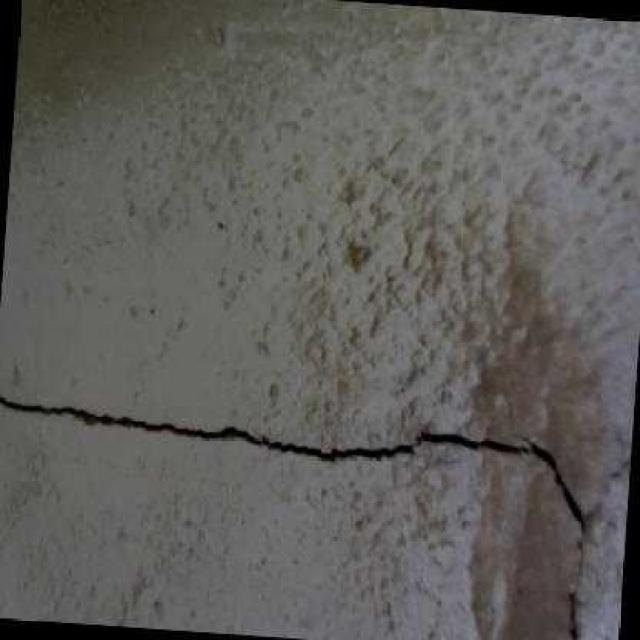D00: (0, 394, 584, 537), (567, 450, 632, 640)
